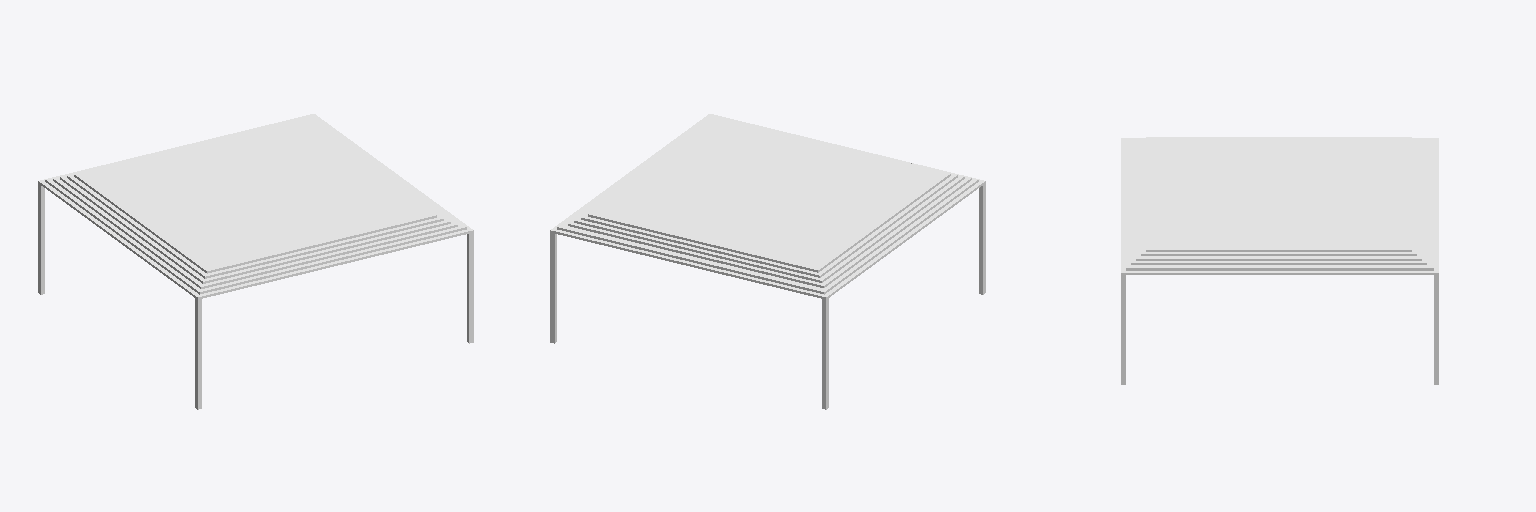
Rendered from MiddleTileTop.obj.
3 views of the same model, side by side, from view 1: azimuth 30°, elevation 25°; view 2: azimuth 150°, elevation 25°; view 3: azimuth 270°, elevation 25° (orthographic).
Size of the model in its own units: 126 by 54 by 126.